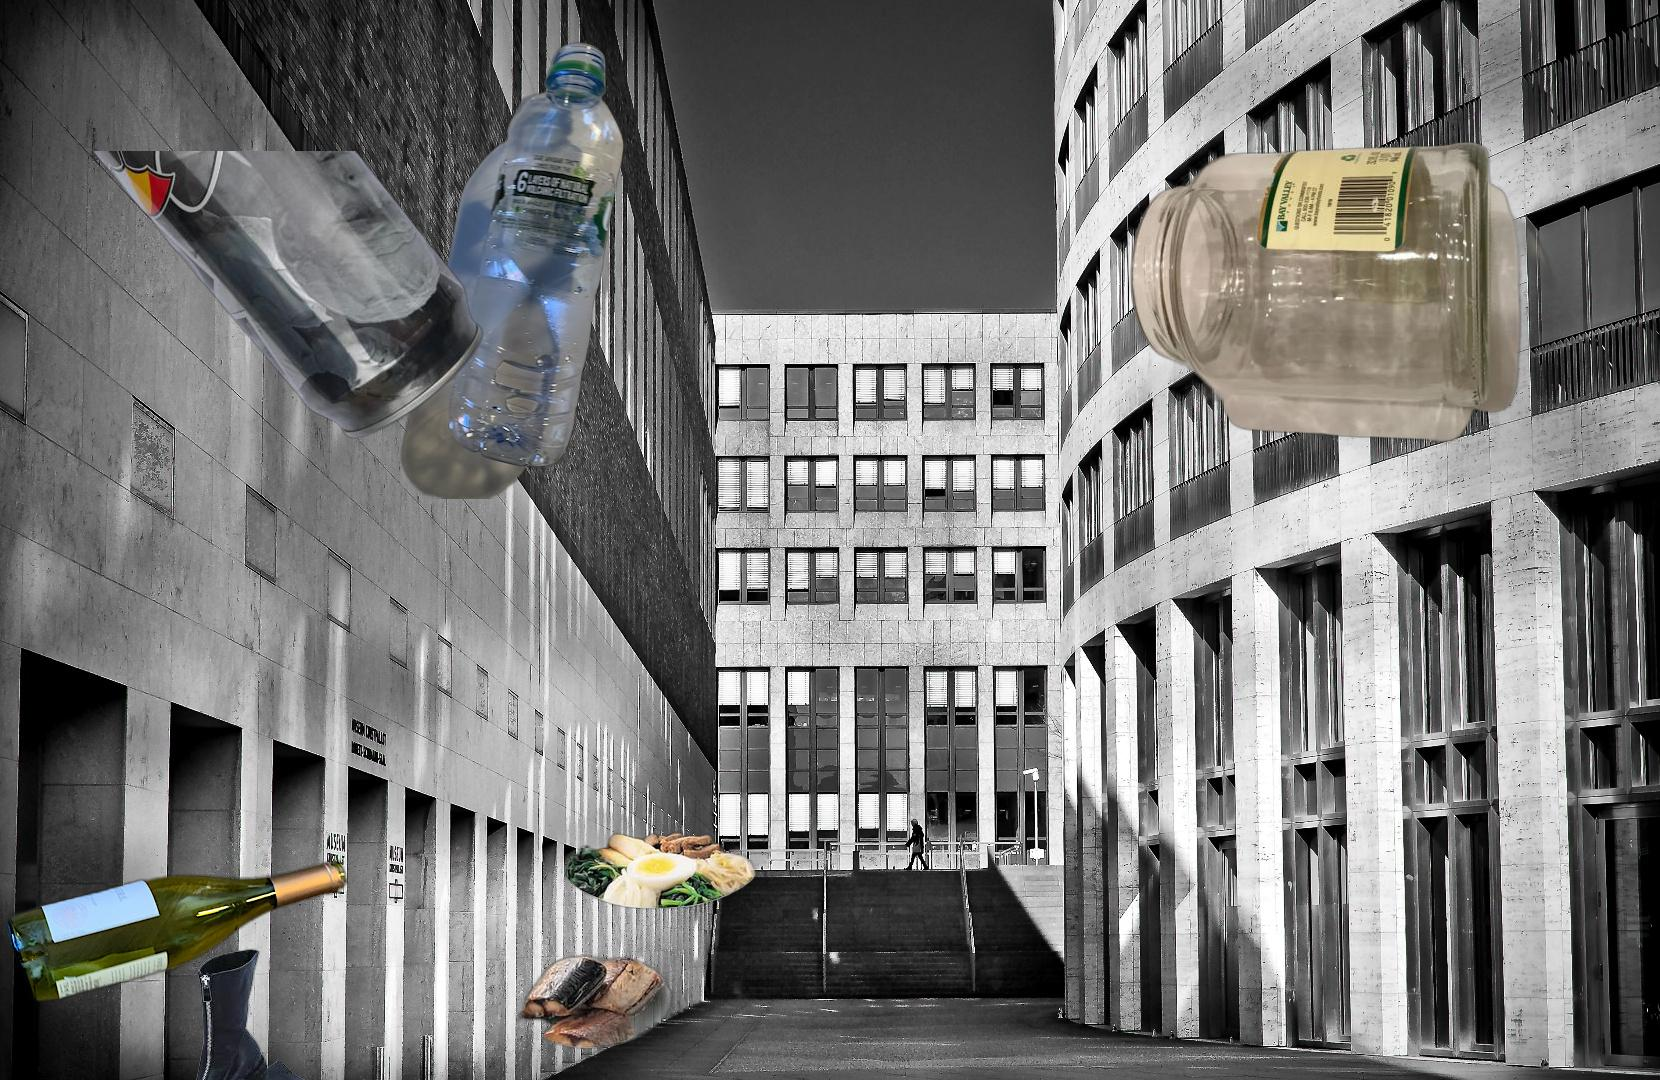biological: (456, 830, 762, 1051)
glass: (1126, 139, 1561, 445), (0, 854, 351, 1007)
metal-cans: (88, 151, 488, 441)
plastic-bottles: (399, 37, 627, 499)
shoes: (154, 946, 336, 1080)
